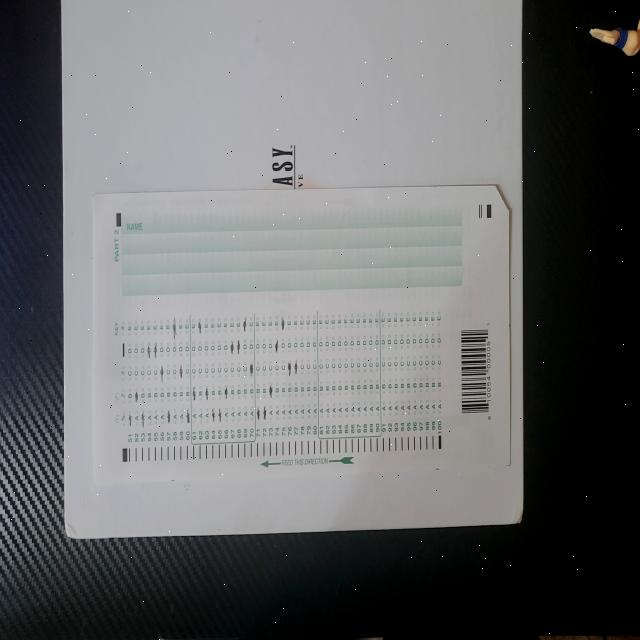scantron_back: (93, 185, 510, 483)
